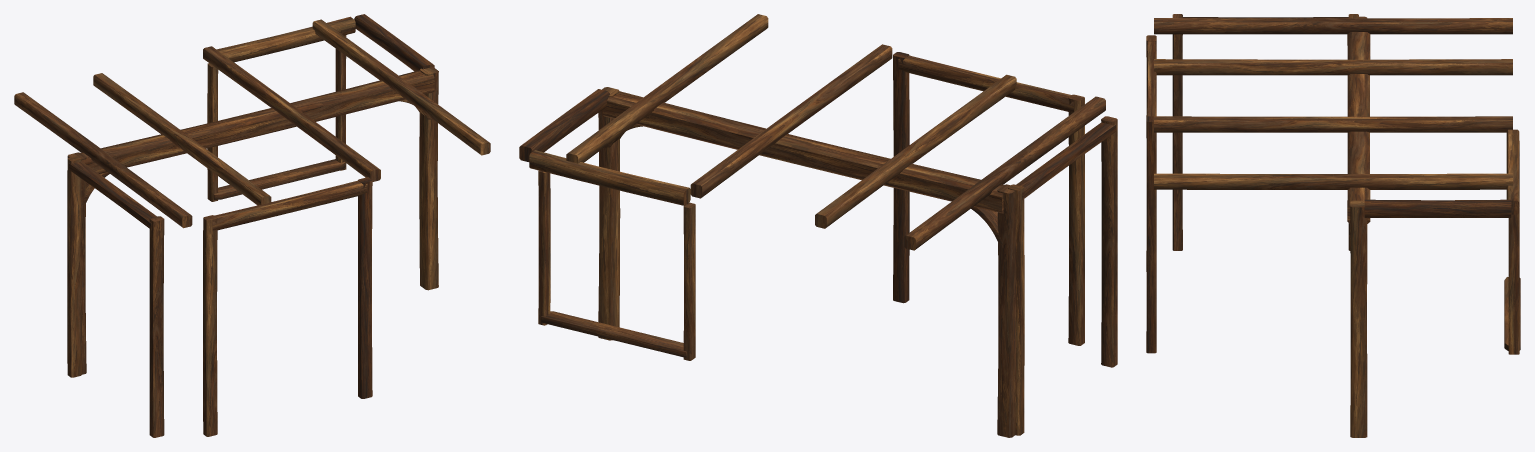
File: CM_SW13_StructuralJoinery.fbx
3 views of the same model, side by side, from view 1: azimuth 30°, elevation 25°; view 2: azimuth 150°, elevation 25°; view 3: azimuth 270°, elevation 25° (orthographic). The views are drawn at different scales.
Parts seen in each view (by area): view 1: CM_SW13_StructuralJoinery; view 2: CM_SW13_StructuralJoinery; view 3: CM_SW13_StructuralJoinery.
Part boxes in pixels (left/top/right/bottom): CM_SW13_StructuralJoinery: left=14, top=14, right=490, bottom=437; CM_SW13_StructuralJoinery: left=519, top=14, right=1117, bottom=437; CM_SW13_StructuralJoinery: left=1146, top=14, right=1520, bottom=437.
Bounding box in the file's own units: 5.41 × 3.11 × 4.42.
